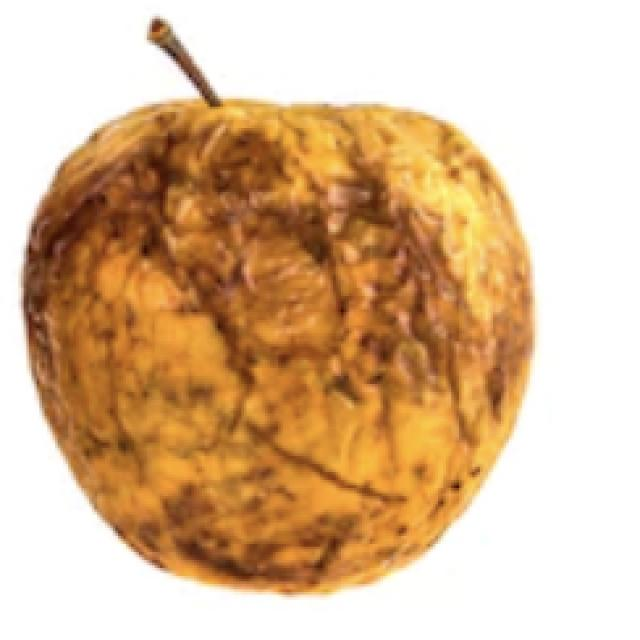rotten_apple: (23, 55, 534, 594)
